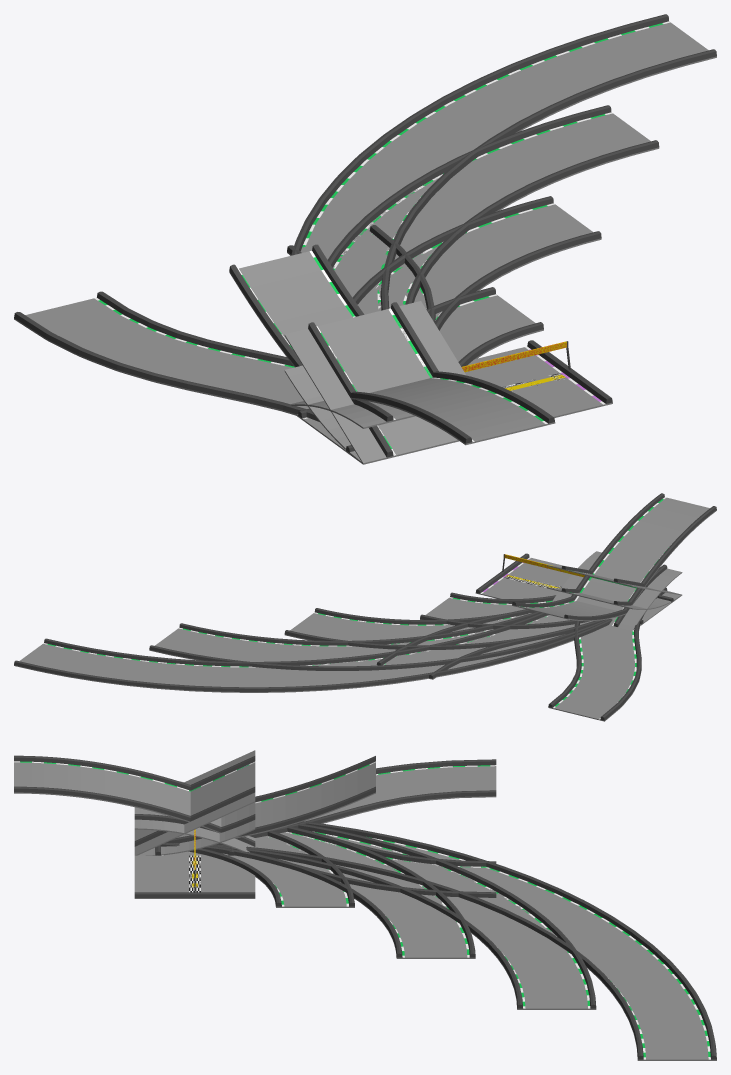
The model's file is blockmixingroads.glb.
3 renders of one model, top to bottom at view 1: azimuth 30°, elevation 25°; view 2: azimuth 150°, elevation 25°; view 3: azimuth 270°, elevation 25°, orthographic. The views are drawn at different scales.
Visible parts, largest first — view 1: BlockmixingTurnLong3, BlockmixingTurnLong2, BlockmixingTurnSLeft, BlockmixingTurnLong, BlockmixingSlope, BlockmixingSlopeDownLong, BlockmixingSlopeUpLong, BlockmixingCheckpointWide, BlockmixingSlopeRightWide, BlockmixingTurnShort, BlockmixingSlopeLeftWide, BlockmixingTurnSRight (+3 smaller); view 2: BlockmixingTurnLong3, BlockmixingTurnLong2, BlockmixingSlopeDownLong, BlockmixingTurnSLeft, BlockmixingTurnLong, BlockmixingCheckpointWide, BlockmixingTurnShort, BlockmixingTurnSRight, BlockmixingSlopeUpLong, BlockmixingFinishWide, BlockmixingSlopeDownRightWide, BlockmixingSlopeDownLeftWide (+1 smaller); view 3: BlockmixingTurnLong3, BlockmixingTurnLong2, BlockmixingTurnLong, BlockmixingSlopeDownLong, BlockmixingTurnSLeft, BlockmixingSlopeUpLong, BlockmixingCheckpointWide, BlockmixingTurnShort, BlockmixingTurnSRight, BlockmixingSlope, BlockmixingSlopeLeftWide, BlockmixingFinishWide (+4 smaller).
Boxes of the visible parts, x1=… form: BlockmixingTurnLong3: x1=291, y1=14, x2=716, y2=458; BlockmixingTurnLong2: x1=328, y1=105, x2=659, y2=458; BlockmixingTurnSLeft: x1=14, y1=291, x2=319, y2=421; BlockmixingTurnLong: x1=352, y1=196, x2=601, y2=458; BlockmixingSlope: x1=308, y1=302, x2=457, y2=456; BlockmixingSlopeDownLong: x1=350, y1=371, x2=555, y2=445; BlockmixingSlopeUpLong: x1=229, y1=244, x2=364, y2=367; BlockmixingCheckpointWide: x1=462, y1=340, x2=612, y2=417; BlockmixingSlopeRightWide: x1=284, y1=310, x2=455, y2=463; BlockmixingTurnShort: x1=387, y1=287, x2=543, y2=457; BlockmixingSlopeLeftWide: x1=319, y1=301, x2=466, y2=454; BlockmixingTurnSRight: x1=287, y1=225, x2=435, y2=322; BlockmixingTurnLong3: x1=14, y1=613, x2=612, y2=692; BlockmixingTurnLong2: x1=149, y1=611, x2=609, y2=670; BlockmixingSlopeDownLong: x1=571, y1=493, x2=716, y2=626; BlockmixingTurnSLeft: x1=548, y1=592, x2=664, y2=721; BlockmixingTurnLong: x1=284, y1=608, x2=595, y2=649; BlockmixingCheckpointWide: x1=475, y1=553, x2=584, y2=598; BlockmixingTurnShort: x1=420, y1=592, x2=589, y2=629; BlockmixingTurnSRight: x1=376, y1=609, x2=603, y2=679; BlockmixingSlopeUpLong: x1=512, y1=596, x2=626, y2=621; BlockmixingFinishWide: x1=485, y1=554, x2=583, y2=598; BlockmixingSlopeDownRightWide: x1=618, y1=568, x2=682, y2=630; BlockmixingSlopeDownLeftWide: x1=552, y1=551, x2=664, y2=601; BlockmixingTurnLong3: x1=214, y1=821, x2=716, y2=1060; BlockmixingTurnLong2: x1=179, y1=823, x2=596, y2=1009; BlockmixingTurnLong: x1=167, y1=826, x2=475, y2=958; BlockmixingSlopeDownLong: x1=14, y1=755, x2=255, y2=846; BlockmixingTurnSLeft: x1=249, y1=759, x2=496, y2=837; BlockmixingSlopeUpLong: x1=234, y1=756, x2=375, y2=838; BlockmixingCheckpointWide: x1=134, y1=829, x2=255, y2=898; BlockmixingTurnShort: x1=160, y1=830, x2=354, y2=907; BlockmixingTurnSRight: x1=176, y1=826, x2=496, y2=897; BlockmixingSlope: x1=134, y1=756, x2=255, y2=846; BlockmixingSlopeLeftWide: x1=134, y1=757, x2=255, y2=855; BlockmixingFinishWide: x1=156, y1=831, x2=249, y2=892.
Size of the model in its own units: 117 by 10.94 by 117.
